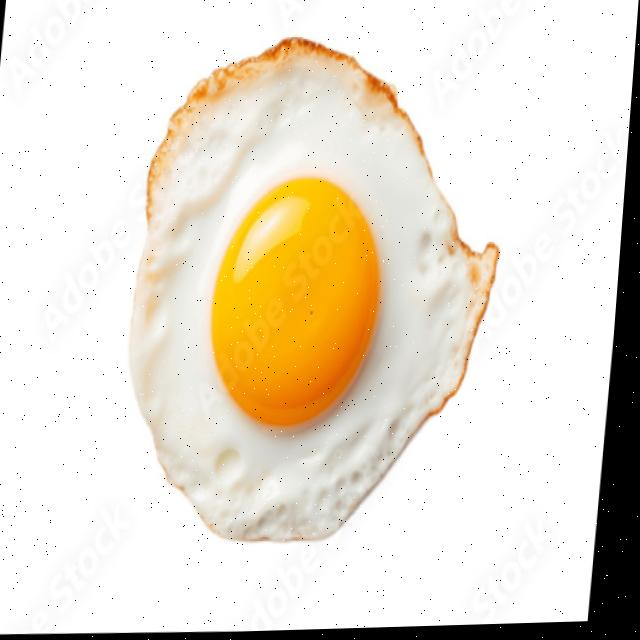Egg: (135, 39, 502, 541)
